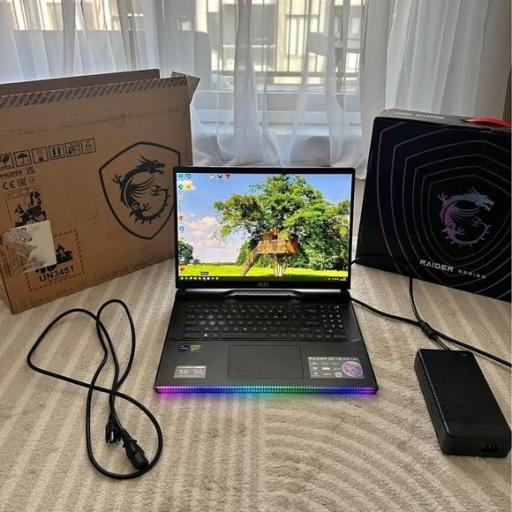glass_wall: (154, 164, 378, 393)
